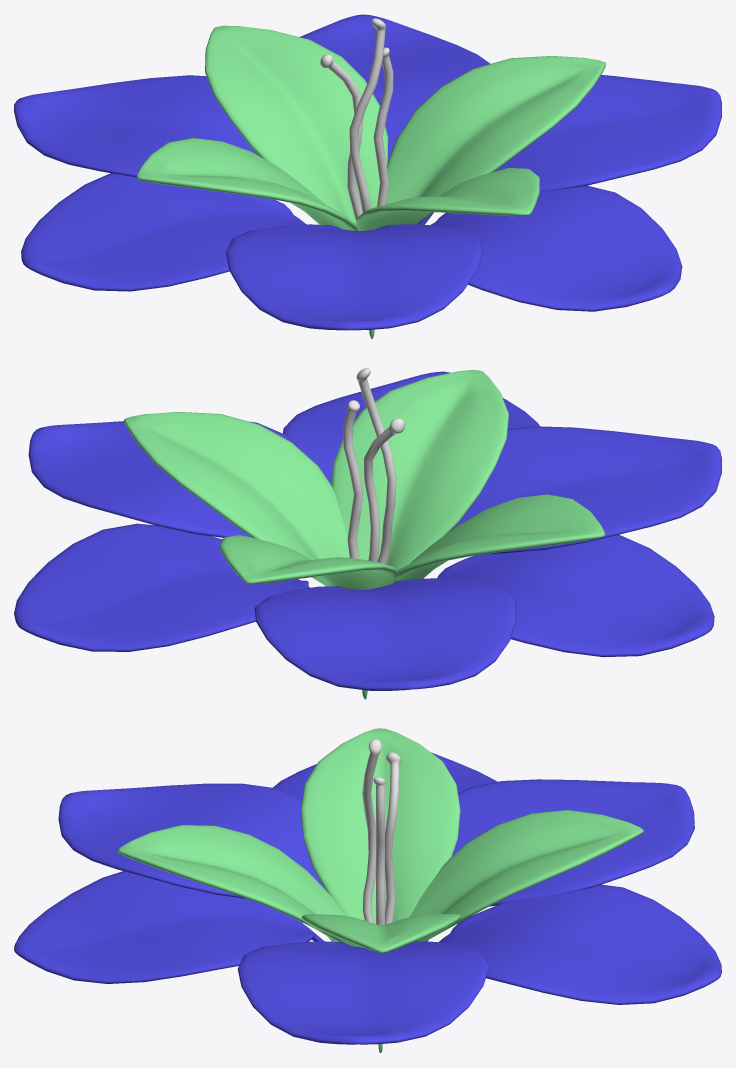
The model's file is Fleur_MOD.fbx.
3 renders of one model, top to bottom at view 1: azimuth 30°, elevation 25°; view 2: azimuth 150°, elevation 25°; view 3: azimuth 270°, elevation 25°, orthographic. The views are drawn at different scales.
Visible parts, largest first — view 1: low; view 2: low; view 3: low.
Boxes of the visible parts, x1=… form: low: x1=14, y1=14, x2=721, y2=339; low: x1=14, y1=368, x2=721, y2=699; low: x1=14, y1=728, x2=721, y2=1053.
Size of the model in its own units: 1239 by 564 by 1150.
